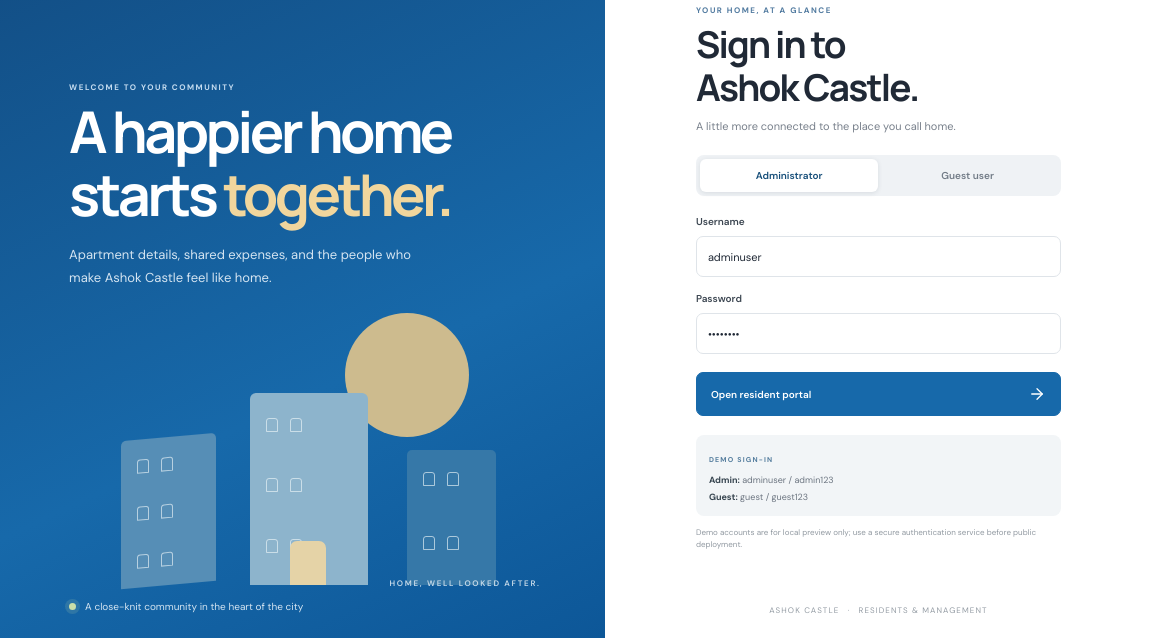
Test case: shows Ashok Castle logo and the six apartments after admin sign-in
Check: the heading named "sign in to ashok castle" is shown, box [696, 19, 918, 112]
Step 1. Click the button "Open resident portal" → (761,394), box [696, 372, 1061, 416]
(page scrolled)
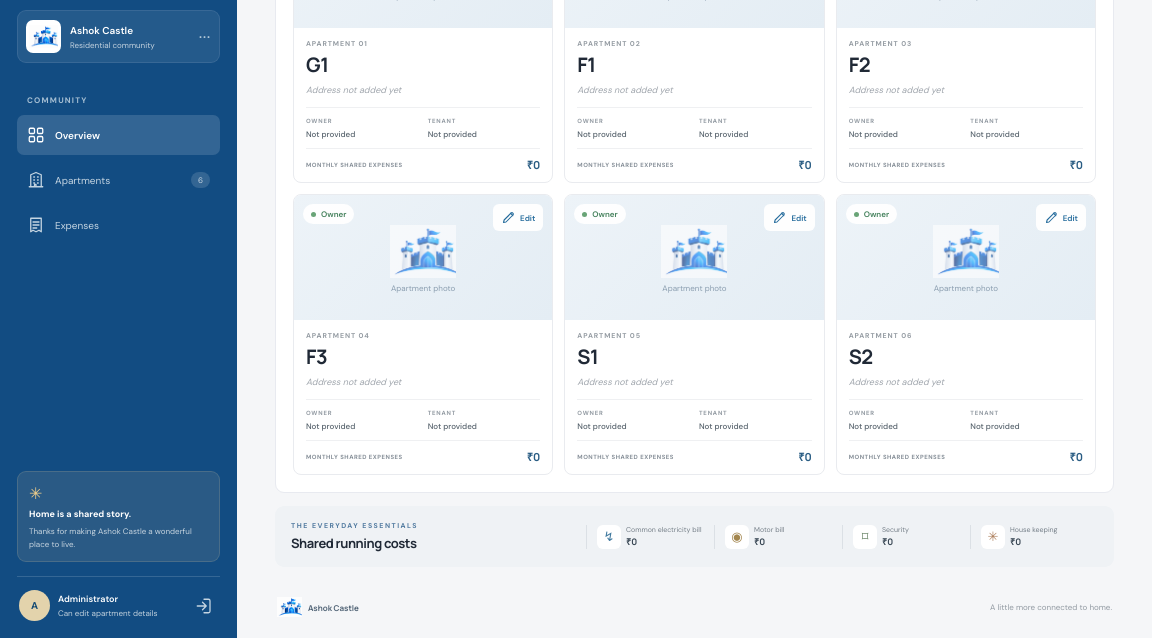
Check: the heading "G1" is shown, box [306, 51, 328, 78]
Check: the heading "F1" is shown, box [577, 51, 596, 78]
Check: the heading "F2" is shown, box [849, 51, 870, 78]
